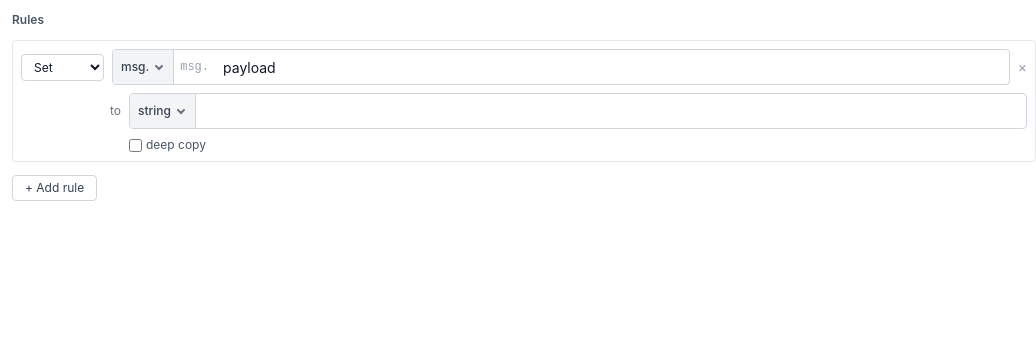
Test: ChangeEditor › adds a new rule when the add button is clicked
Expected: the element with test id "change-rule-0" is shown, [12,40,1035,162]
Click the button with test id "change-add-rule" at (55, 188), box [12,175,97,201]
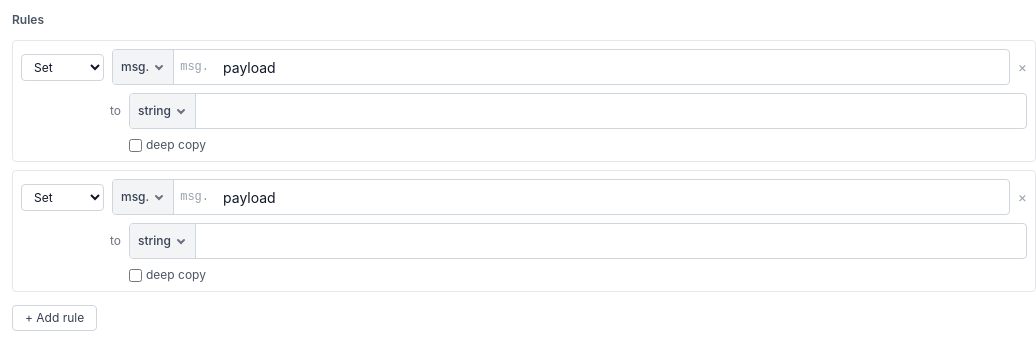
Expected: the element with test id "change-rule-1" is shown, [12,170,1035,292]
